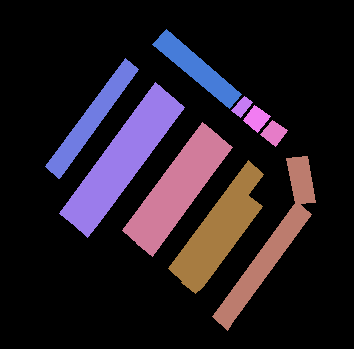parkingspot: (73, 94, 184, 237), (59, 82, 170, 225), (212, 201, 311, 330), (122, 122, 218, 244), (136, 134, 232, 256), (168, 160, 263, 282), (45, 58, 138, 178), (181, 194, 262, 293), (152, 29, 241, 108), (286, 156, 315, 203), (243, 105, 270, 132), (260, 120, 287, 146), (231, 96, 252, 117)
